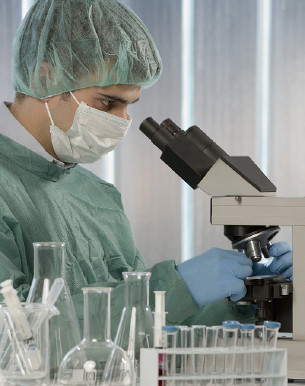face_mask: (50, 84, 138, 163)
